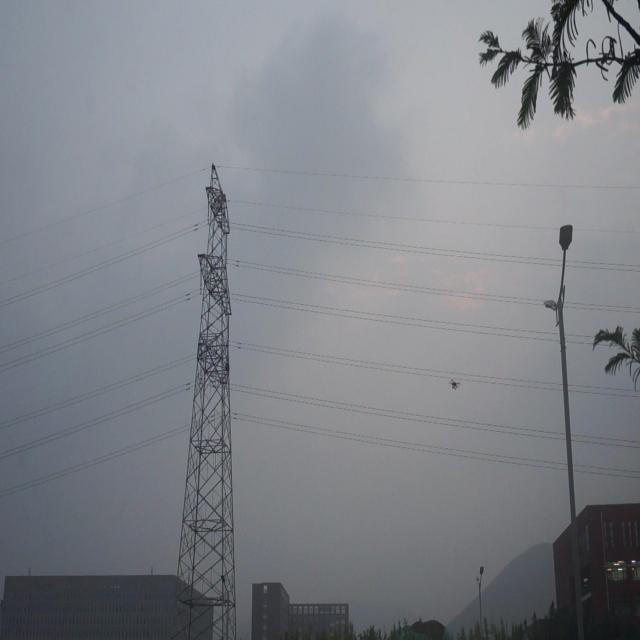UAV: (448, 378, 460, 390)
